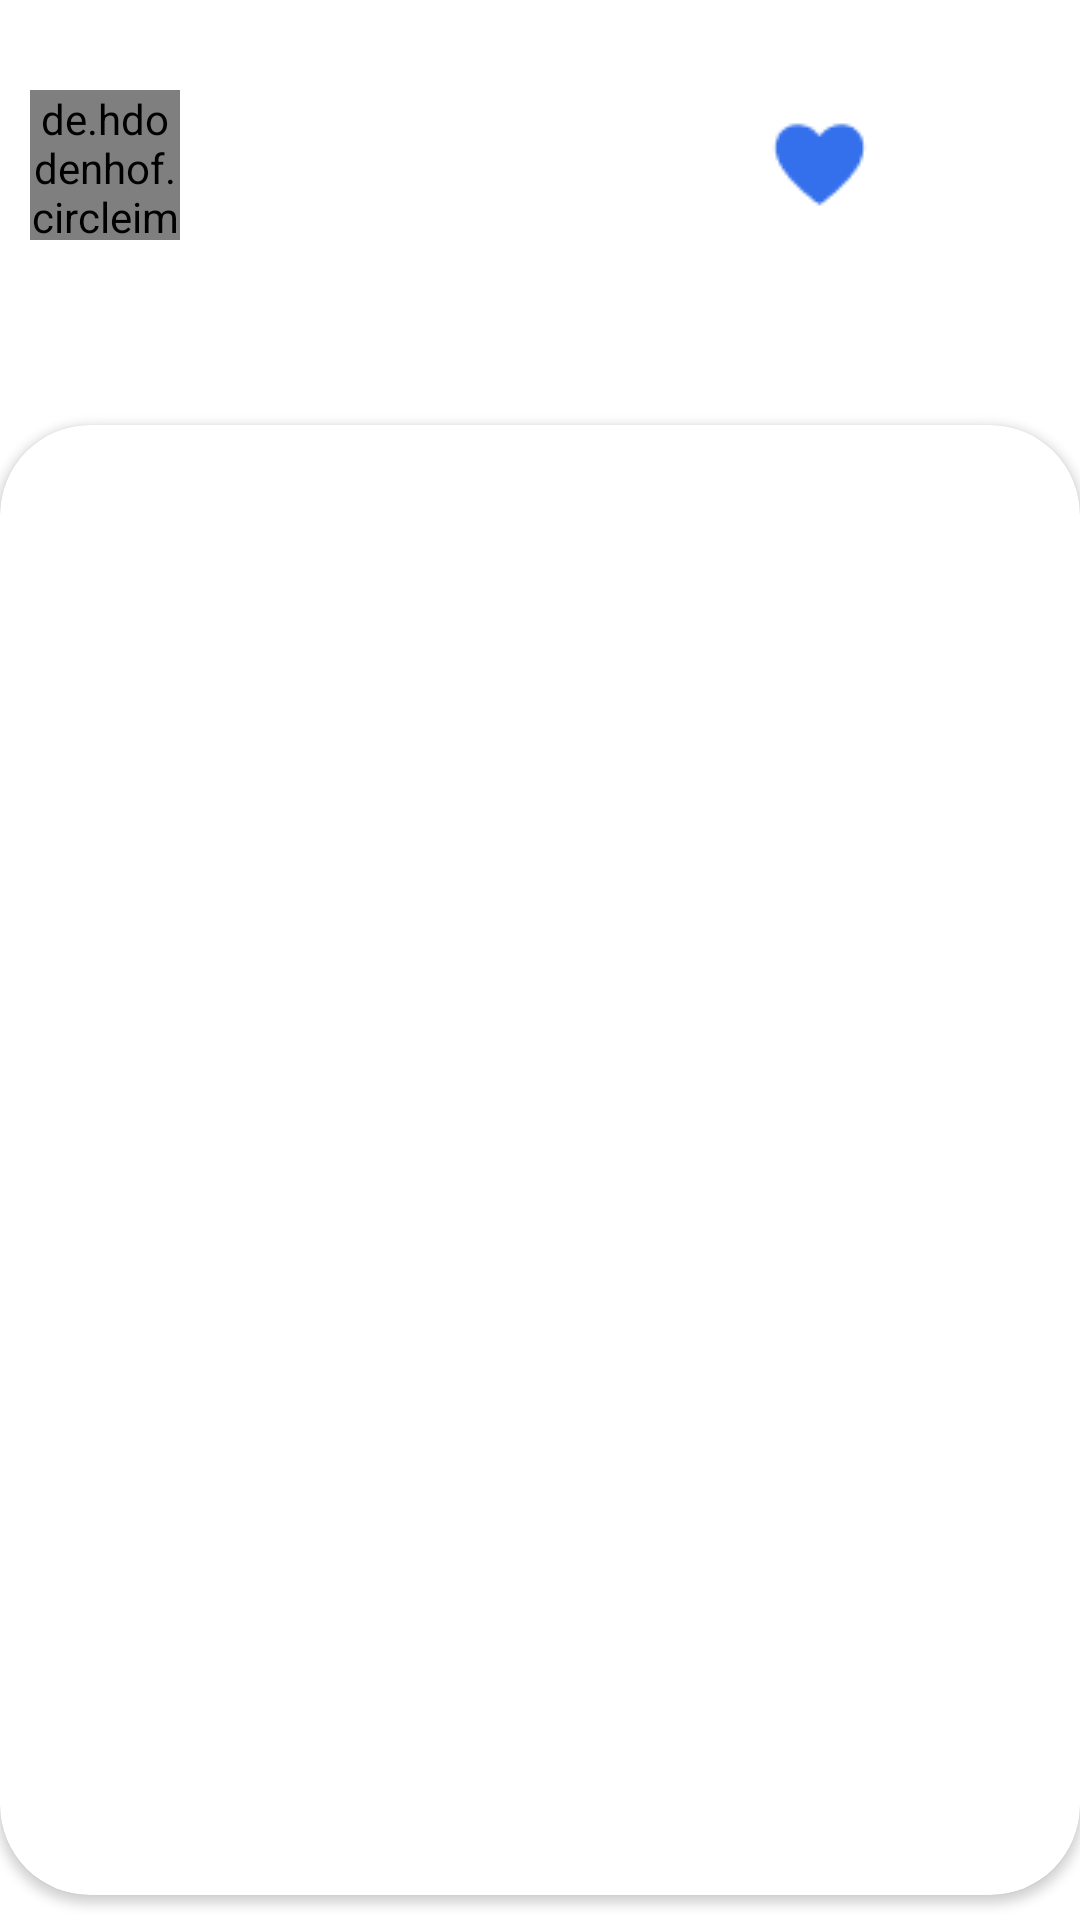

Where to tap for icons on this 1080w x 1920h app screen, as (x=x, y=y):
heart: (x=819, y=164)
